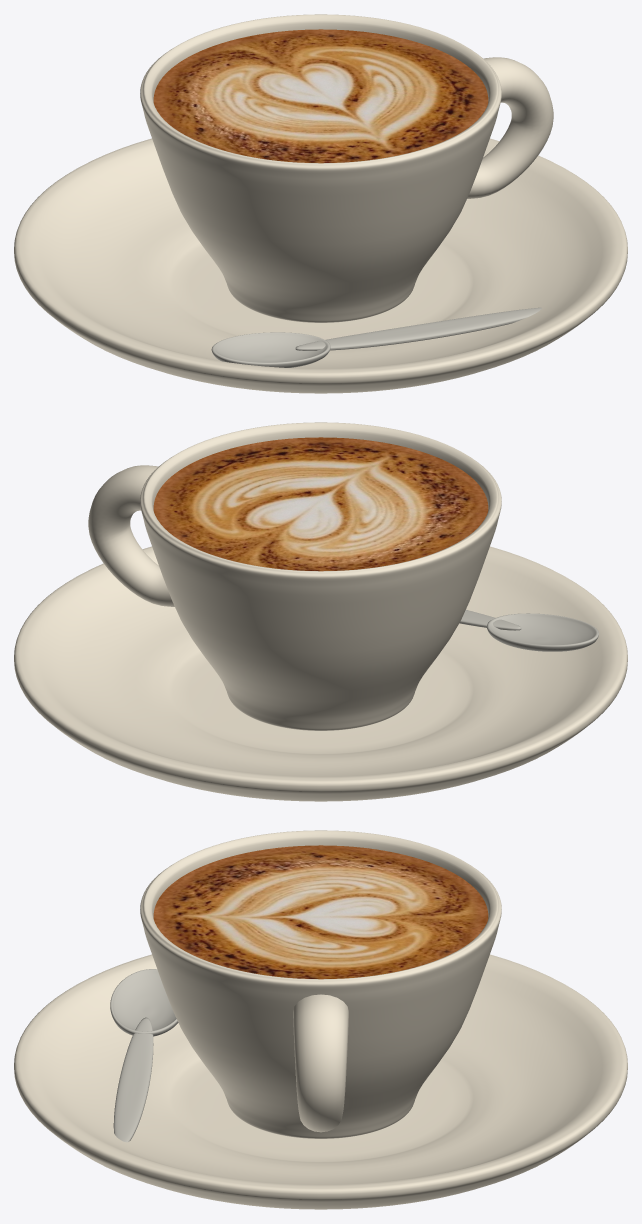
File: alba-cappuccino.glb
3 views of the same model, one above another, from view 1: azimuth 30°, elevation 25°; view 2: azimuth 150°, elevation 25°; view 3: azimuth 270°, elevation 25° (orthographic).
Visible parts, largest first — view 1: Saucer • recessed well and rounded foot, Cup • porcelain wall, rolled lip and interior, Liquid surface • curved meniscus, Cup handle • molded ceramic, Teaspoon • tapered grip, Teaspoon • pressed bowl; view 2: Saucer • recessed well and rounded foot, Cup • porcelain wall, rolled lip and interior, Liquid surface • curved meniscus, Cup handle • molded ceramic, Teaspoon • pressed bowl, Teaspoon • tapered grip; view 3: Saucer • recessed well and rounded foot, Cup • porcelain wall, rolled lip and interior, Liquid surface • curved meniscus, Cup handle • molded ceramic, Teaspoon • pressed bowl, Teaspoon • tapered grip.
Part boxes in pixels (bbox=[...]): Saucer • recessed well and rounded foot: bbox=[14, 138, 627, 393]; Cup • porcelain wall, rolled lip and interior: bbox=[140, 14, 501, 322]; Liquid surface • curved meniscus: bbox=[153, 29, 488, 163]; Cup handle • molded ceramic: bbox=[467, 57, 553, 198]; Teaspoon • tapered grip: bbox=[295, 307, 541, 350]; Teaspoon • pressed bowl: bbox=[211, 332, 330, 367]; Saucer • recessed well and rounded foot: bbox=[14, 546, 627, 801]; Cup • porcelain wall, rolled lip and interior: bbox=[140, 422, 501, 730]; Liquid surface • curved meniscus: bbox=[153, 437, 488, 571]; Cup handle • molded ceramic: bbox=[88, 465, 174, 606]; Teaspoon • pressed bowl: bbox=[487, 613, 598, 651]; Teaspoon • tapered grip: bbox=[459, 609, 521, 630]; Saucer • recessed well and rounded foot: bbox=[14, 954, 627, 1209]; Cup • porcelain wall, rolled lip and interior: bbox=[140, 830, 501, 1138]; Liquid surface • curved meniscus: bbox=[153, 845, 488, 979]; Cup handle • molded ceramic: bbox=[293, 994, 348, 1132]; Teaspoon • pressed bowl: bbox=[110, 969, 178, 1036]; Teaspoon • tapered grip: bbox=[113, 1017, 153, 1142].
Bounding box in the file's own units: 0.146 × 0.056 × 0.146.
Materials: 3 (1 with a texture image).
